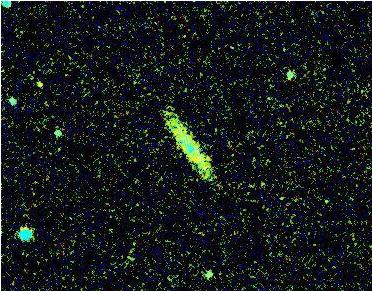star: (22, 64, 52, 94)
